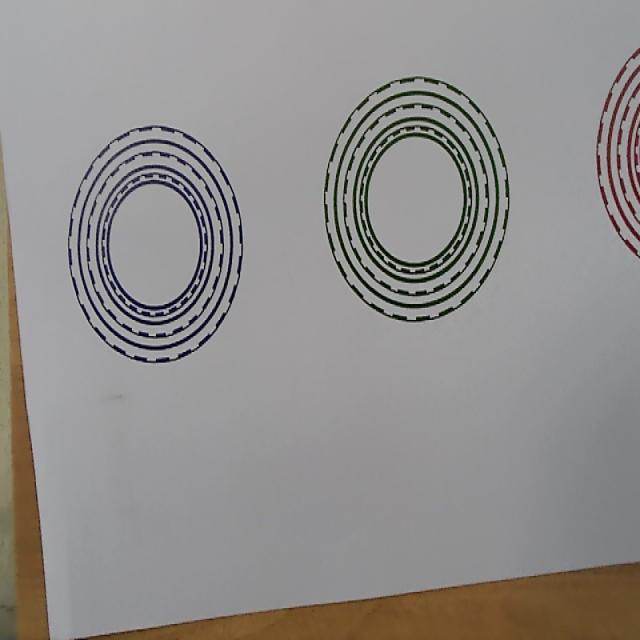b: (68, 125, 242, 363)
g: (324, 75, 511, 322)
